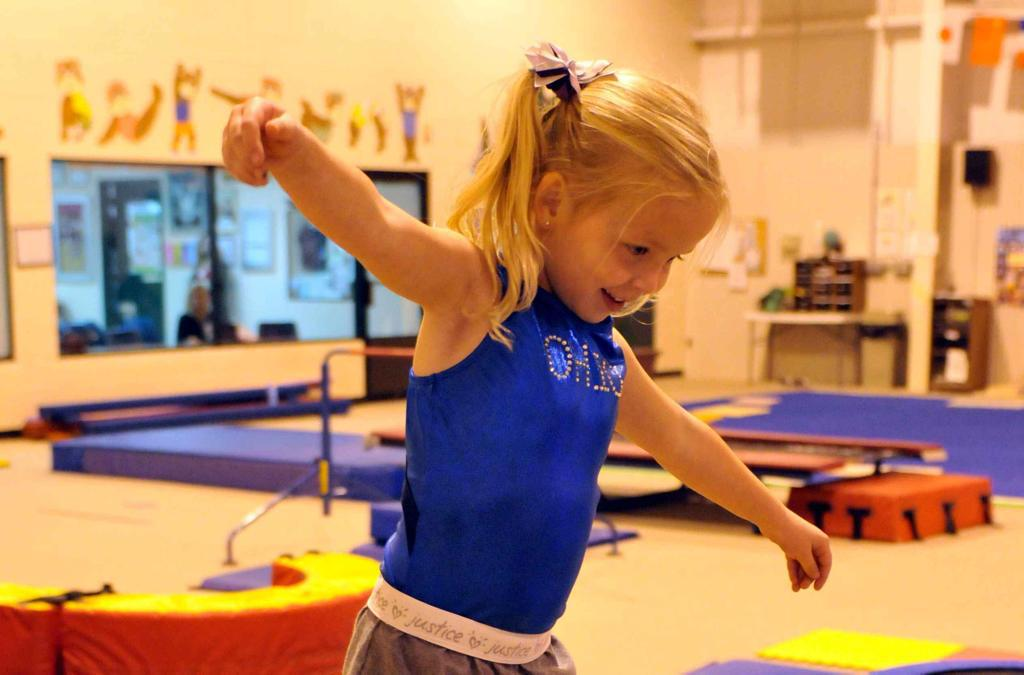face: (565, 159, 719, 315)
